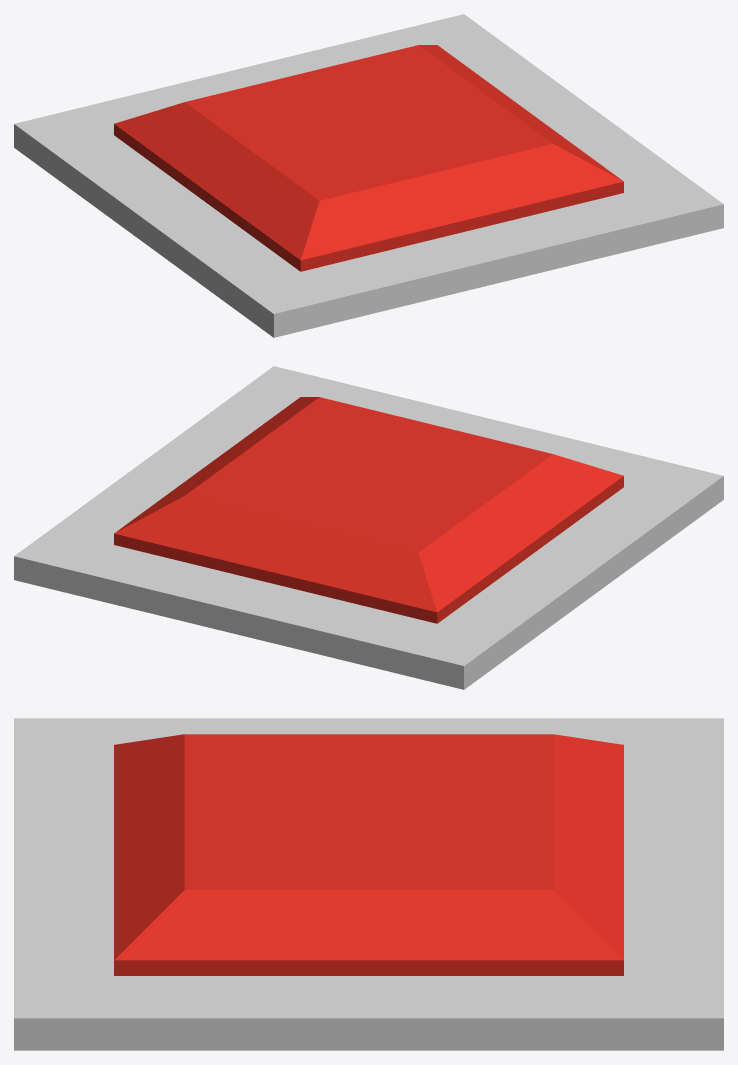
File: light.fbx
The picture shows the model from 3 angles, top to bottom: view 1: azimuth 30°, elevation 25°; view 2: azimuth 150°, elevation 25°; view 3: azimuth 270°, elevation 25°; orthographic projection. The views are drawn at different scales.
Parts seen in each view (by area): view 1: Cube; view 2: Cube; view 3: Cube.
Part boxes in pixels (bbox=[...]): Cube: bbox=[14, 14, 723, 337]; Cube: bbox=[14, 366, 723, 689]; Cube: bbox=[14, 718, 723, 1050].
Size of the model in its own units: 200 by 27.57 by 200.
